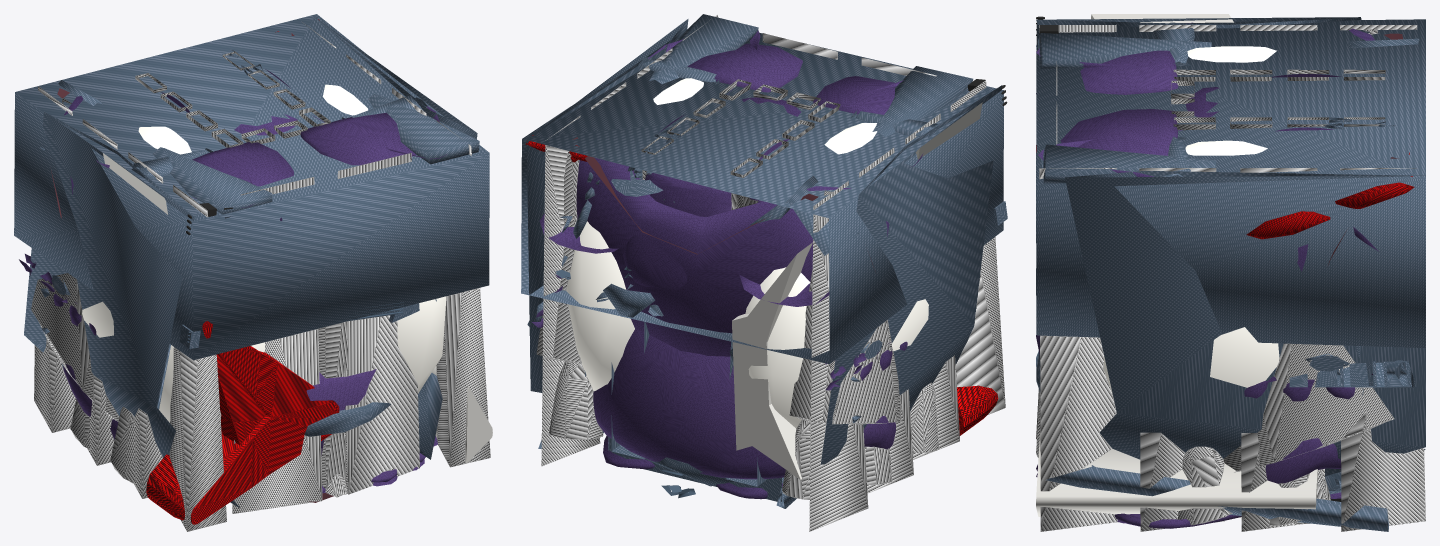
File: bonnie.glb
3 views of the same model, side by side, from view 1: azimuth 30°, elevation 25°; view 2: azimuth 150°, elevation 25°; view 3: azimuth 270°, elevation 25° (orthographic). The views are drawn at different scales.
Parts seen in each view (by area): view 1: mandibula, cabeza, cuerpo; view 2: mandibula, cabeza, cuerpo; view 3: mandibula, cabeza, cuerpo.
Part boxes in pixels (<box>): mandibula: <box>14,14,490,531</box>; cabeza: <box>24,17,479,507</box>; cuerpo: <box>19,19,492,524</box>; mandibula: <box>521,15,1005,531</box>; cabeza: <box>526,14,1002,508</box>; cuerpo: <box>525,79,1007,499</box>; mandibula: <box>1036,19,1425,531</box>; cabeza: <box>1036,17,1425,531</box>; cuerpo: <box>1036,14,1416,528</box>.
Bounding box in the file's own units: 65535 × 65535 × 65535.
Materials: 12 (8 with a texture image).
